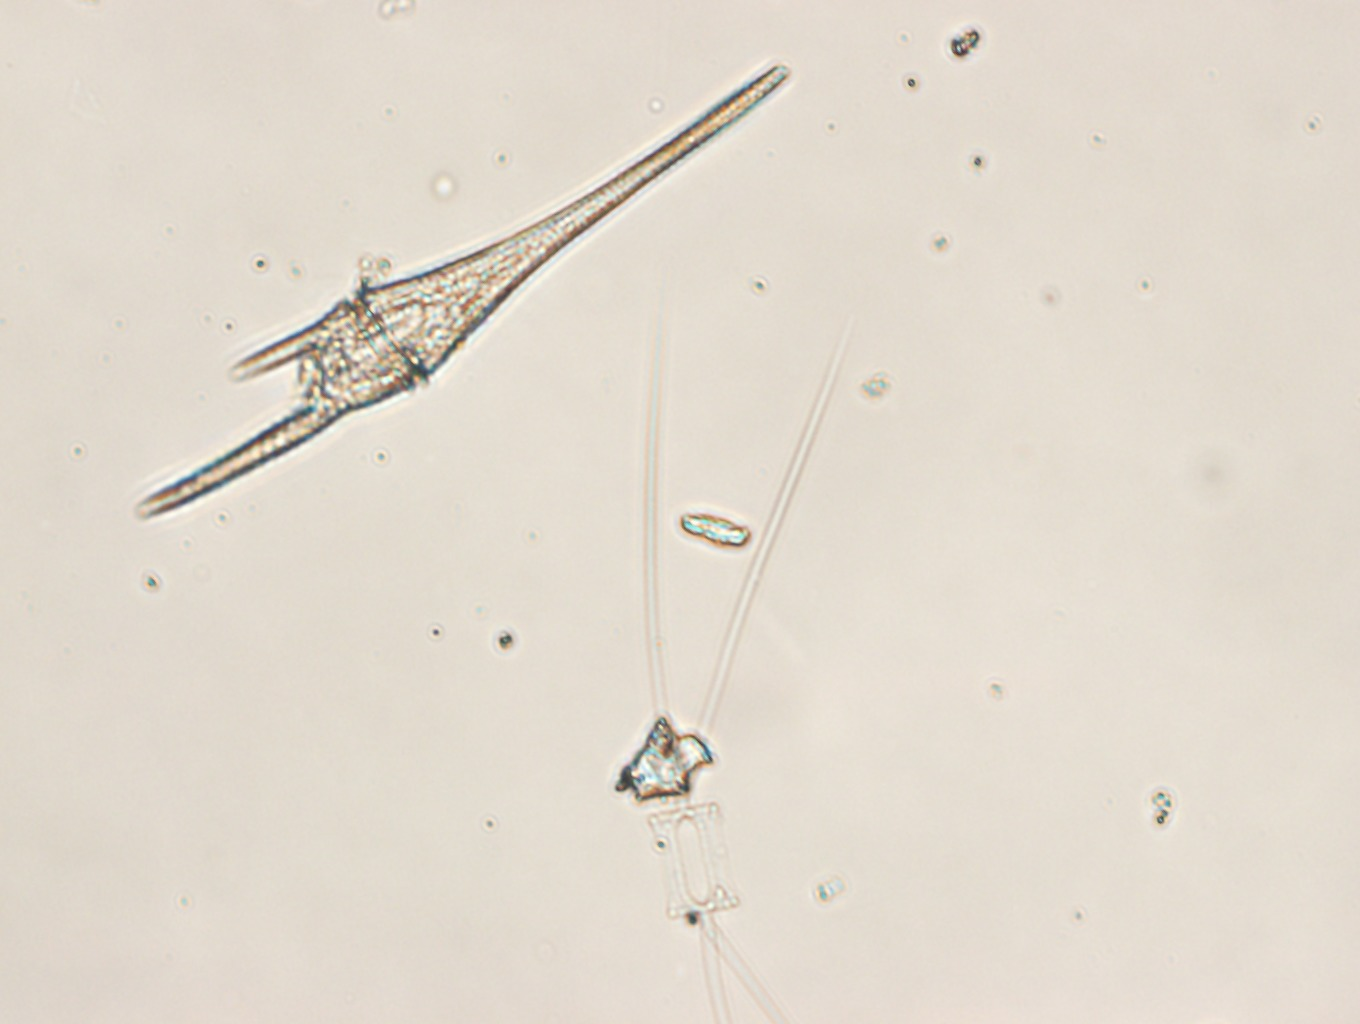ceratium furca: (132, 63, 792, 523)
